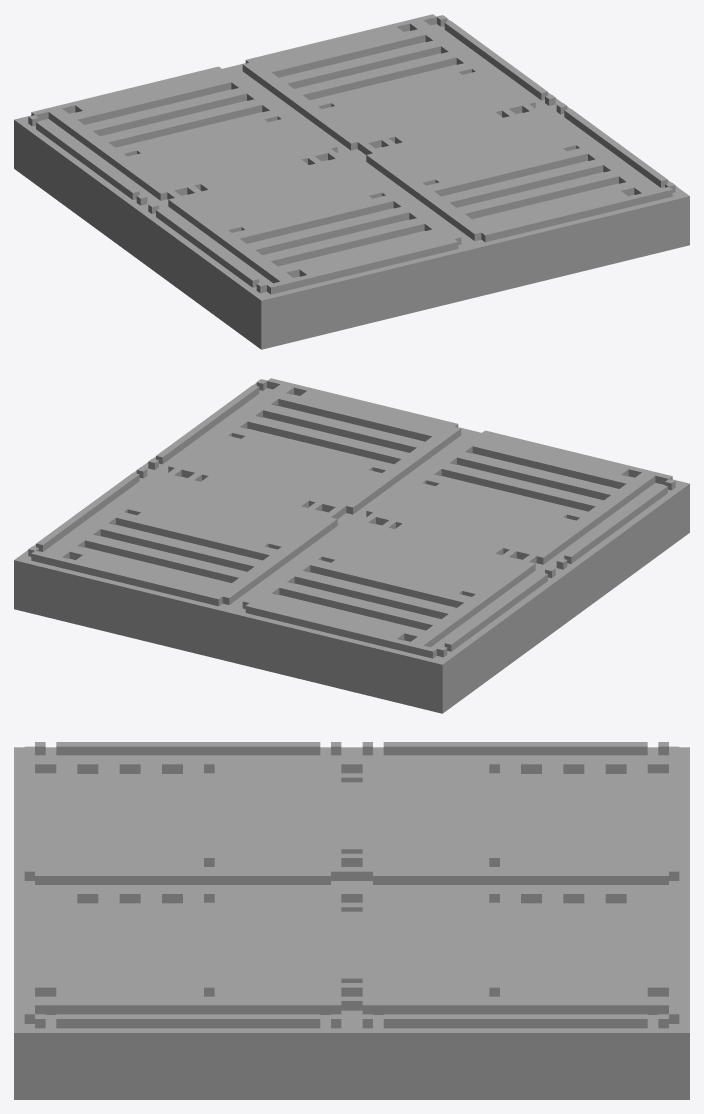
Rendered from bg_wall_01.obj.
3 views of the same model, one above another, from view 1: azimuth 30°, elevation 25°; view 2: azimuth 150°, elevation 25°; view 3: azimuth 270°, elevation 25° (orthographic). The views are drawn at different scales.
Bounding box in the file's own units: 64 × 8 × 64.
1 material, 1 textured.
